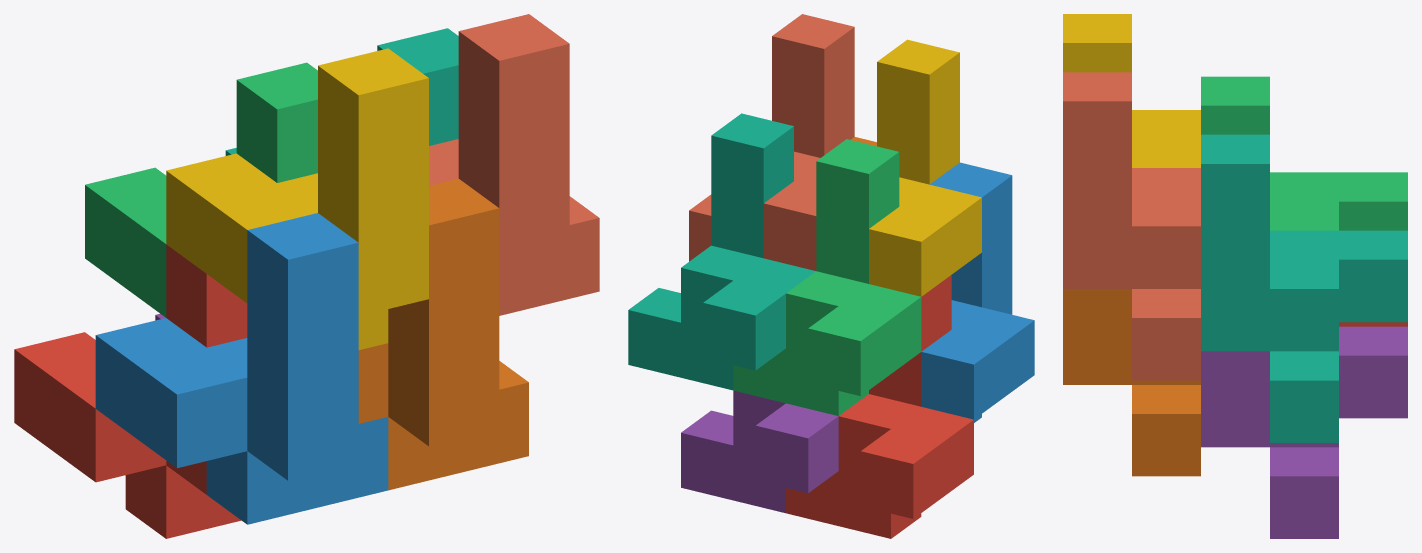
Rendered from tiling.obj.
The picture shows the model from 3 angles, left to right: view 1: azimuth 30°, elevation 25°; view 2: azimuth 150°, elevation 25°; view 3: azimuth 270°, elevation 25°; orthographic projection. The views are drawn at different scales.
Parts seen in each view (by area): view 1: copy_1_domain_2, copy_1_domain_4, copy_1_domain_6, copy_1_domain_8, copy_1_domain_1, copy_1_domain_3, copy_1_domain_7; view 2: copy_1_domain_7, copy_1_domain_3, copy_1_domain_1, copy_1_domain_4, copy_1_domain_2, copy_1_domain_8, copy_1_domain_5; view 3: copy_1_domain_7, copy_1_domain_8, copy_1_domain_5, copy_1_domain_6, copy_1_domain_3, copy_1_domain_4.
Part boxes in pixels (bbox=[...]): copy_1_domain_2: bbox=[95, 213, 388, 524]; copy_1_domain_4: bbox=[166, 48, 428, 349]; copy_1_domain_6: bbox=[358, 178, 528, 490]; copy_1_domain_8: bbox=[429, 14, 599, 315]; copy_1_domain_1: bbox=[14, 244, 247, 538]; copy_1_domain_3: bbox=[85, 62, 317, 317]; copy_1_domain_7: bbox=[225, 28, 458, 155]; copy_1_domain_7: bbox=[628, 113, 815, 390]; copy_1_domain_3: bbox=[733, 139, 921, 415]; copy_1_domain_1: bbox=[786, 275, 973, 538]; copy_1_domain_4: bbox=[869, 39, 981, 296]; copy_1_domain_2: bbox=[921, 162, 1034, 422]; copy_1_domain_8: bbox=[689, 14, 854, 270]; copy_1_domain_5: bbox=[681, 390, 838, 513]; copy_1_domain_7: bbox=[1201, 134, 1407, 442]; copy_1_domain_8: bbox=[1063, 72, 1200, 380]; copy_1_domain_5: bbox=[1201, 326, 1407, 538]; copy_1_domain_6: bbox=[1063, 289, 1200, 476]; copy_1_domain_3: bbox=[1201, 76, 1407, 230]; copy_1_domain_4: bbox=[1063, 14, 1200, 167].
Size of the model in its own units: 6 by 7 by 5.
